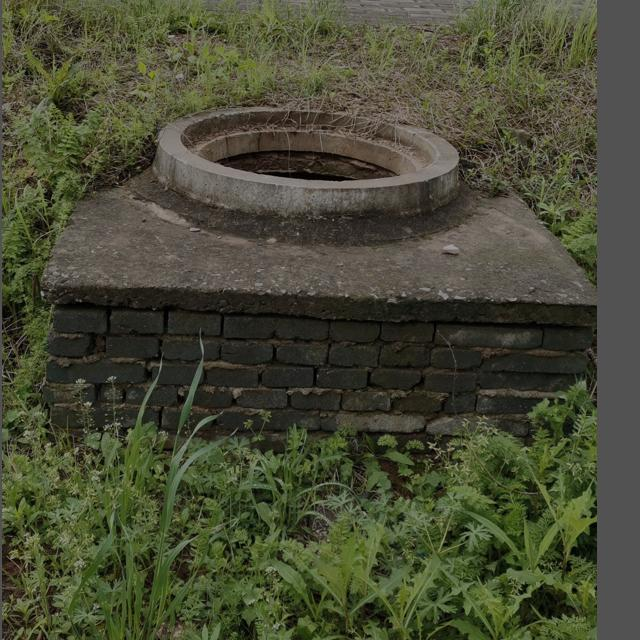lose: (155, 97, 455, 216)
